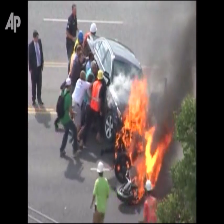fire_h: (120, 69, 172, 202)
fire_l: (114, 131, 122, 148), (125, 161, 129, 168), (114, 151, 117, 158), (117, 164, 120, 170)
